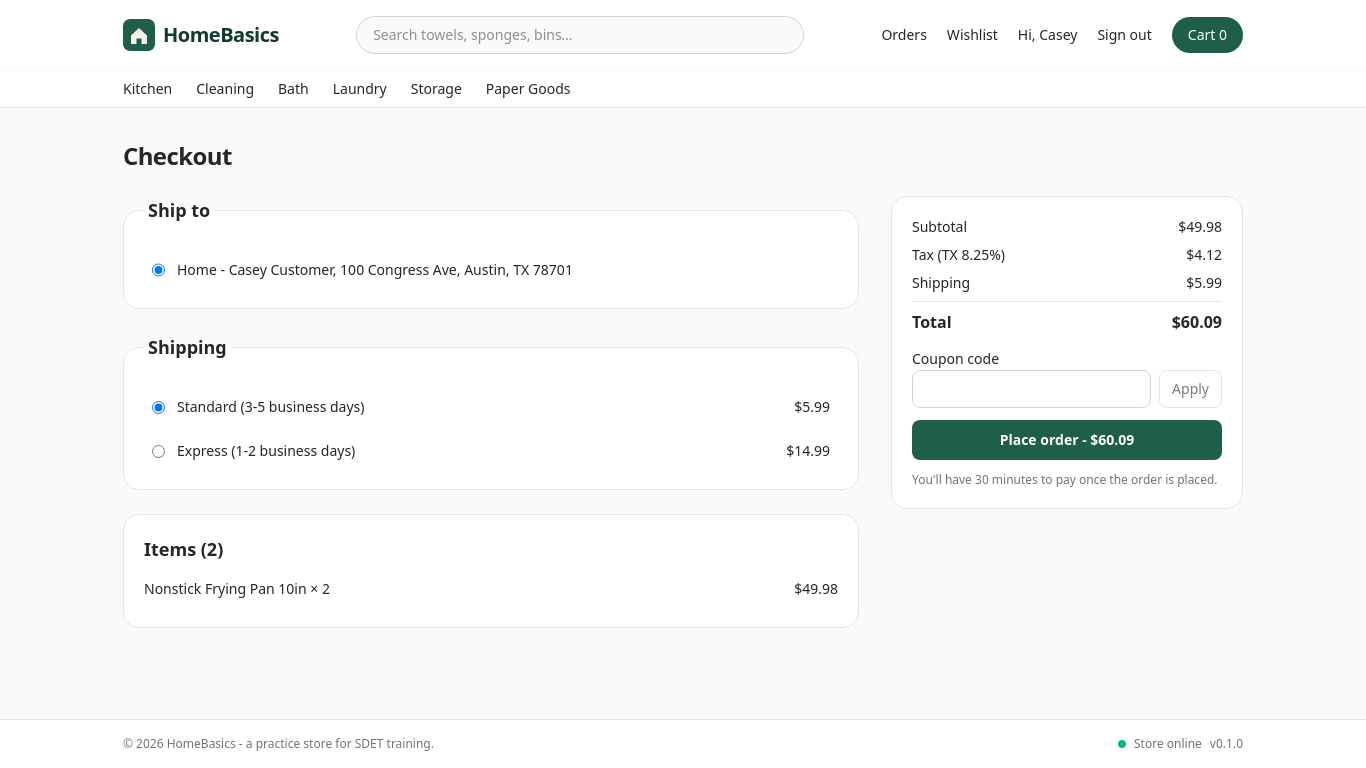
it: CheckoutPage › places the order with an Idempotency-Key and the total the shopper saw
Click the button with test id "place-order" at (1067,440), box [912,420,1222,460]
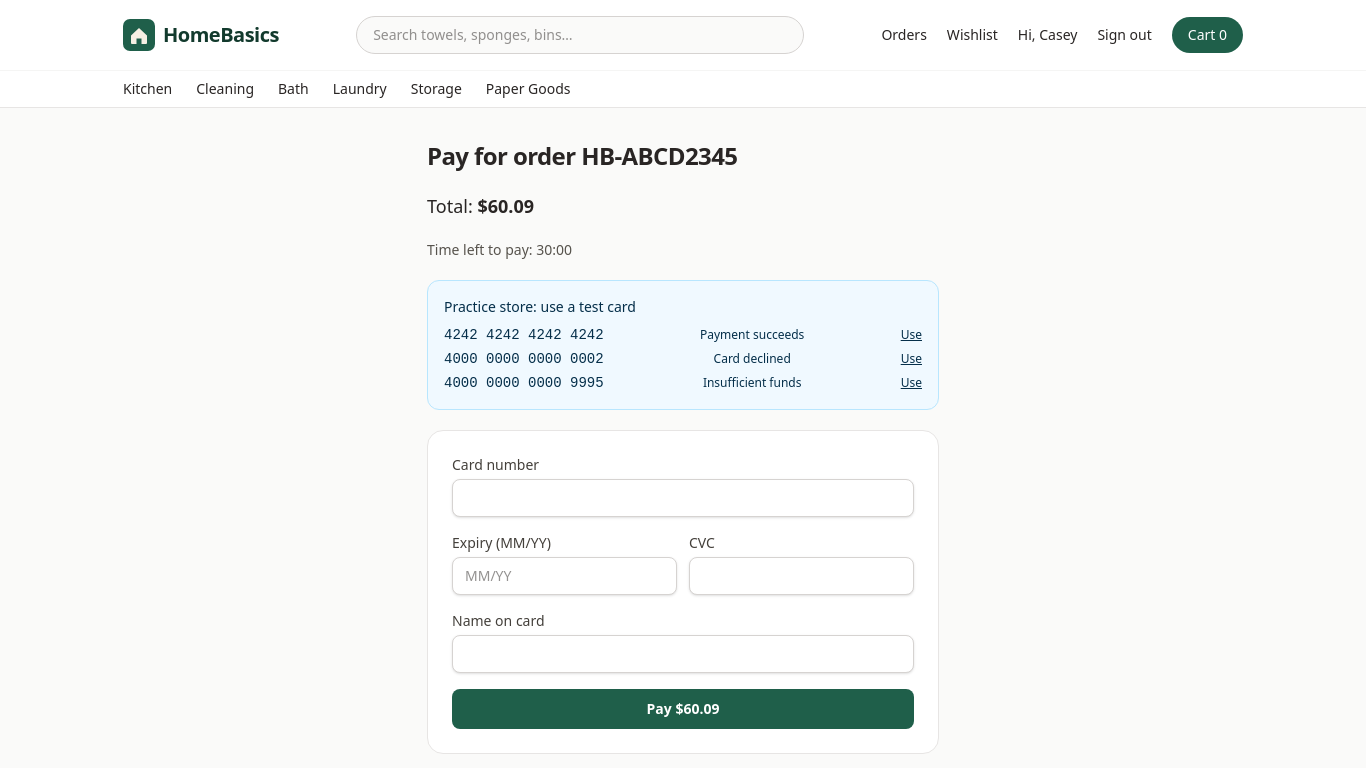
Expected: the element with test id "pay-total" shows "$60.09", [477,194,534,218]
